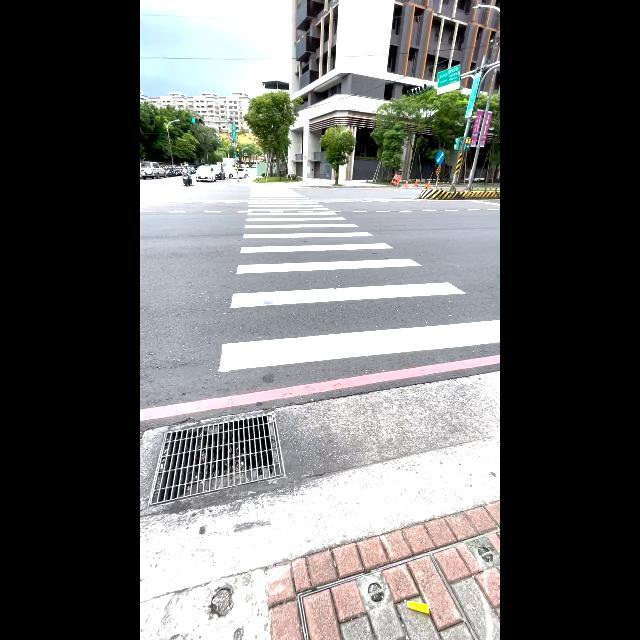sidewalk: (219, 184, 500, 374)
